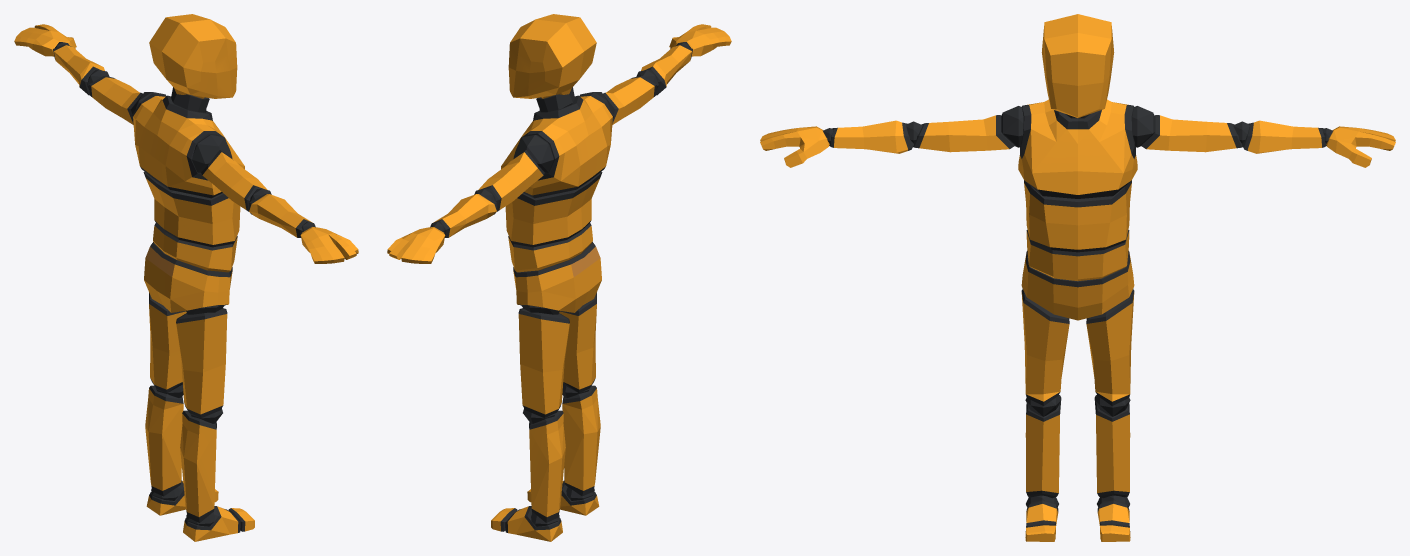
File: spawn_player.glb
3 renders of one model, left to right at view 1: azimuth 30°, elevation 25°; view 2: azimuth 150°, elevation 25°; view 3: azimuth 270°, elevation 25°, orthographic.
Parts seen in each view (by area): view 1: Character_Dummy_Male_01; view 2: Character_Dummy_Male_01; view 3: Character_Dummy_Male_01.
Part boxes in pixels (x1=…): Character_Dummy_Male_01: x1=14, y1=14, x2=358, y2=541; Character_Dummy_Male_01: x1=387, y1=14, x2=731, y2=541; Character_Dummy_Male_01: x1=760, y1=14, x2=1395, y2=541.
Size of the model in its own units: 0.2947 by 1.79 by 2.05.
Materials: 1 (1 with a texture image).
